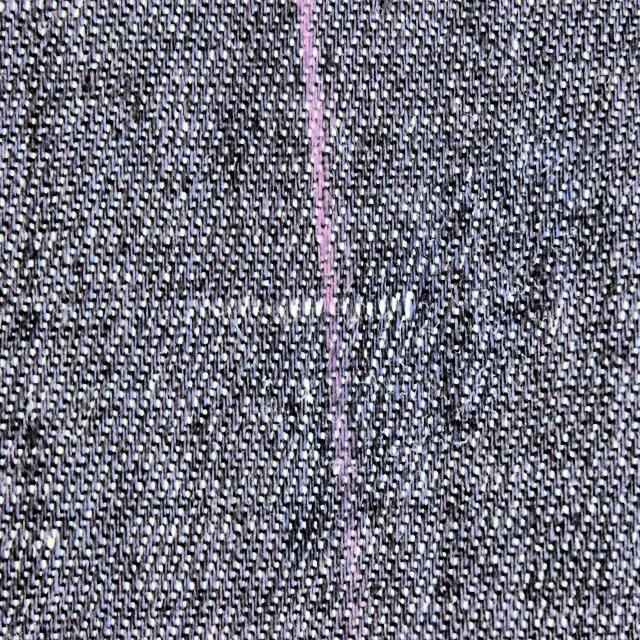Hole: (270, 287, 418, 325)
